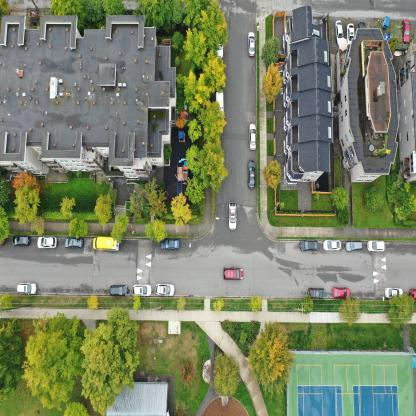Coniferous Tree: (249, 324, 292, 389), (0, 320, 21, 395), (214, 355, 237, 395), (263, 65, 282, 103), (14, 190, 36, 219), (261, 36, 279, 64), (264, 157, 280, 188), (179, 361, 194, 388), (0, 180, 9, 205)
Deciduous Tree: (82, 308, 140, 413), (25, 316, 81, 406), (200, 143, 227, 195), (202, 3, 227, 50), (202, 98, 228, 142), (206, 52, 228, 95), (184, 74, 208, 108), (182, 30, 202, 64), (171, 198, 194, 221), (144, 220, 168, 242), (364, 187, 385, 212), (186, 180, 208, 200), (112, 218, 129, 241), (68, 221, 88, 238), (332, 188, 349, 207), (248, 297, 262, 312), (86, 295, 98, 309), (213, 296, 222, 313), (132, 296, 142, 310)
